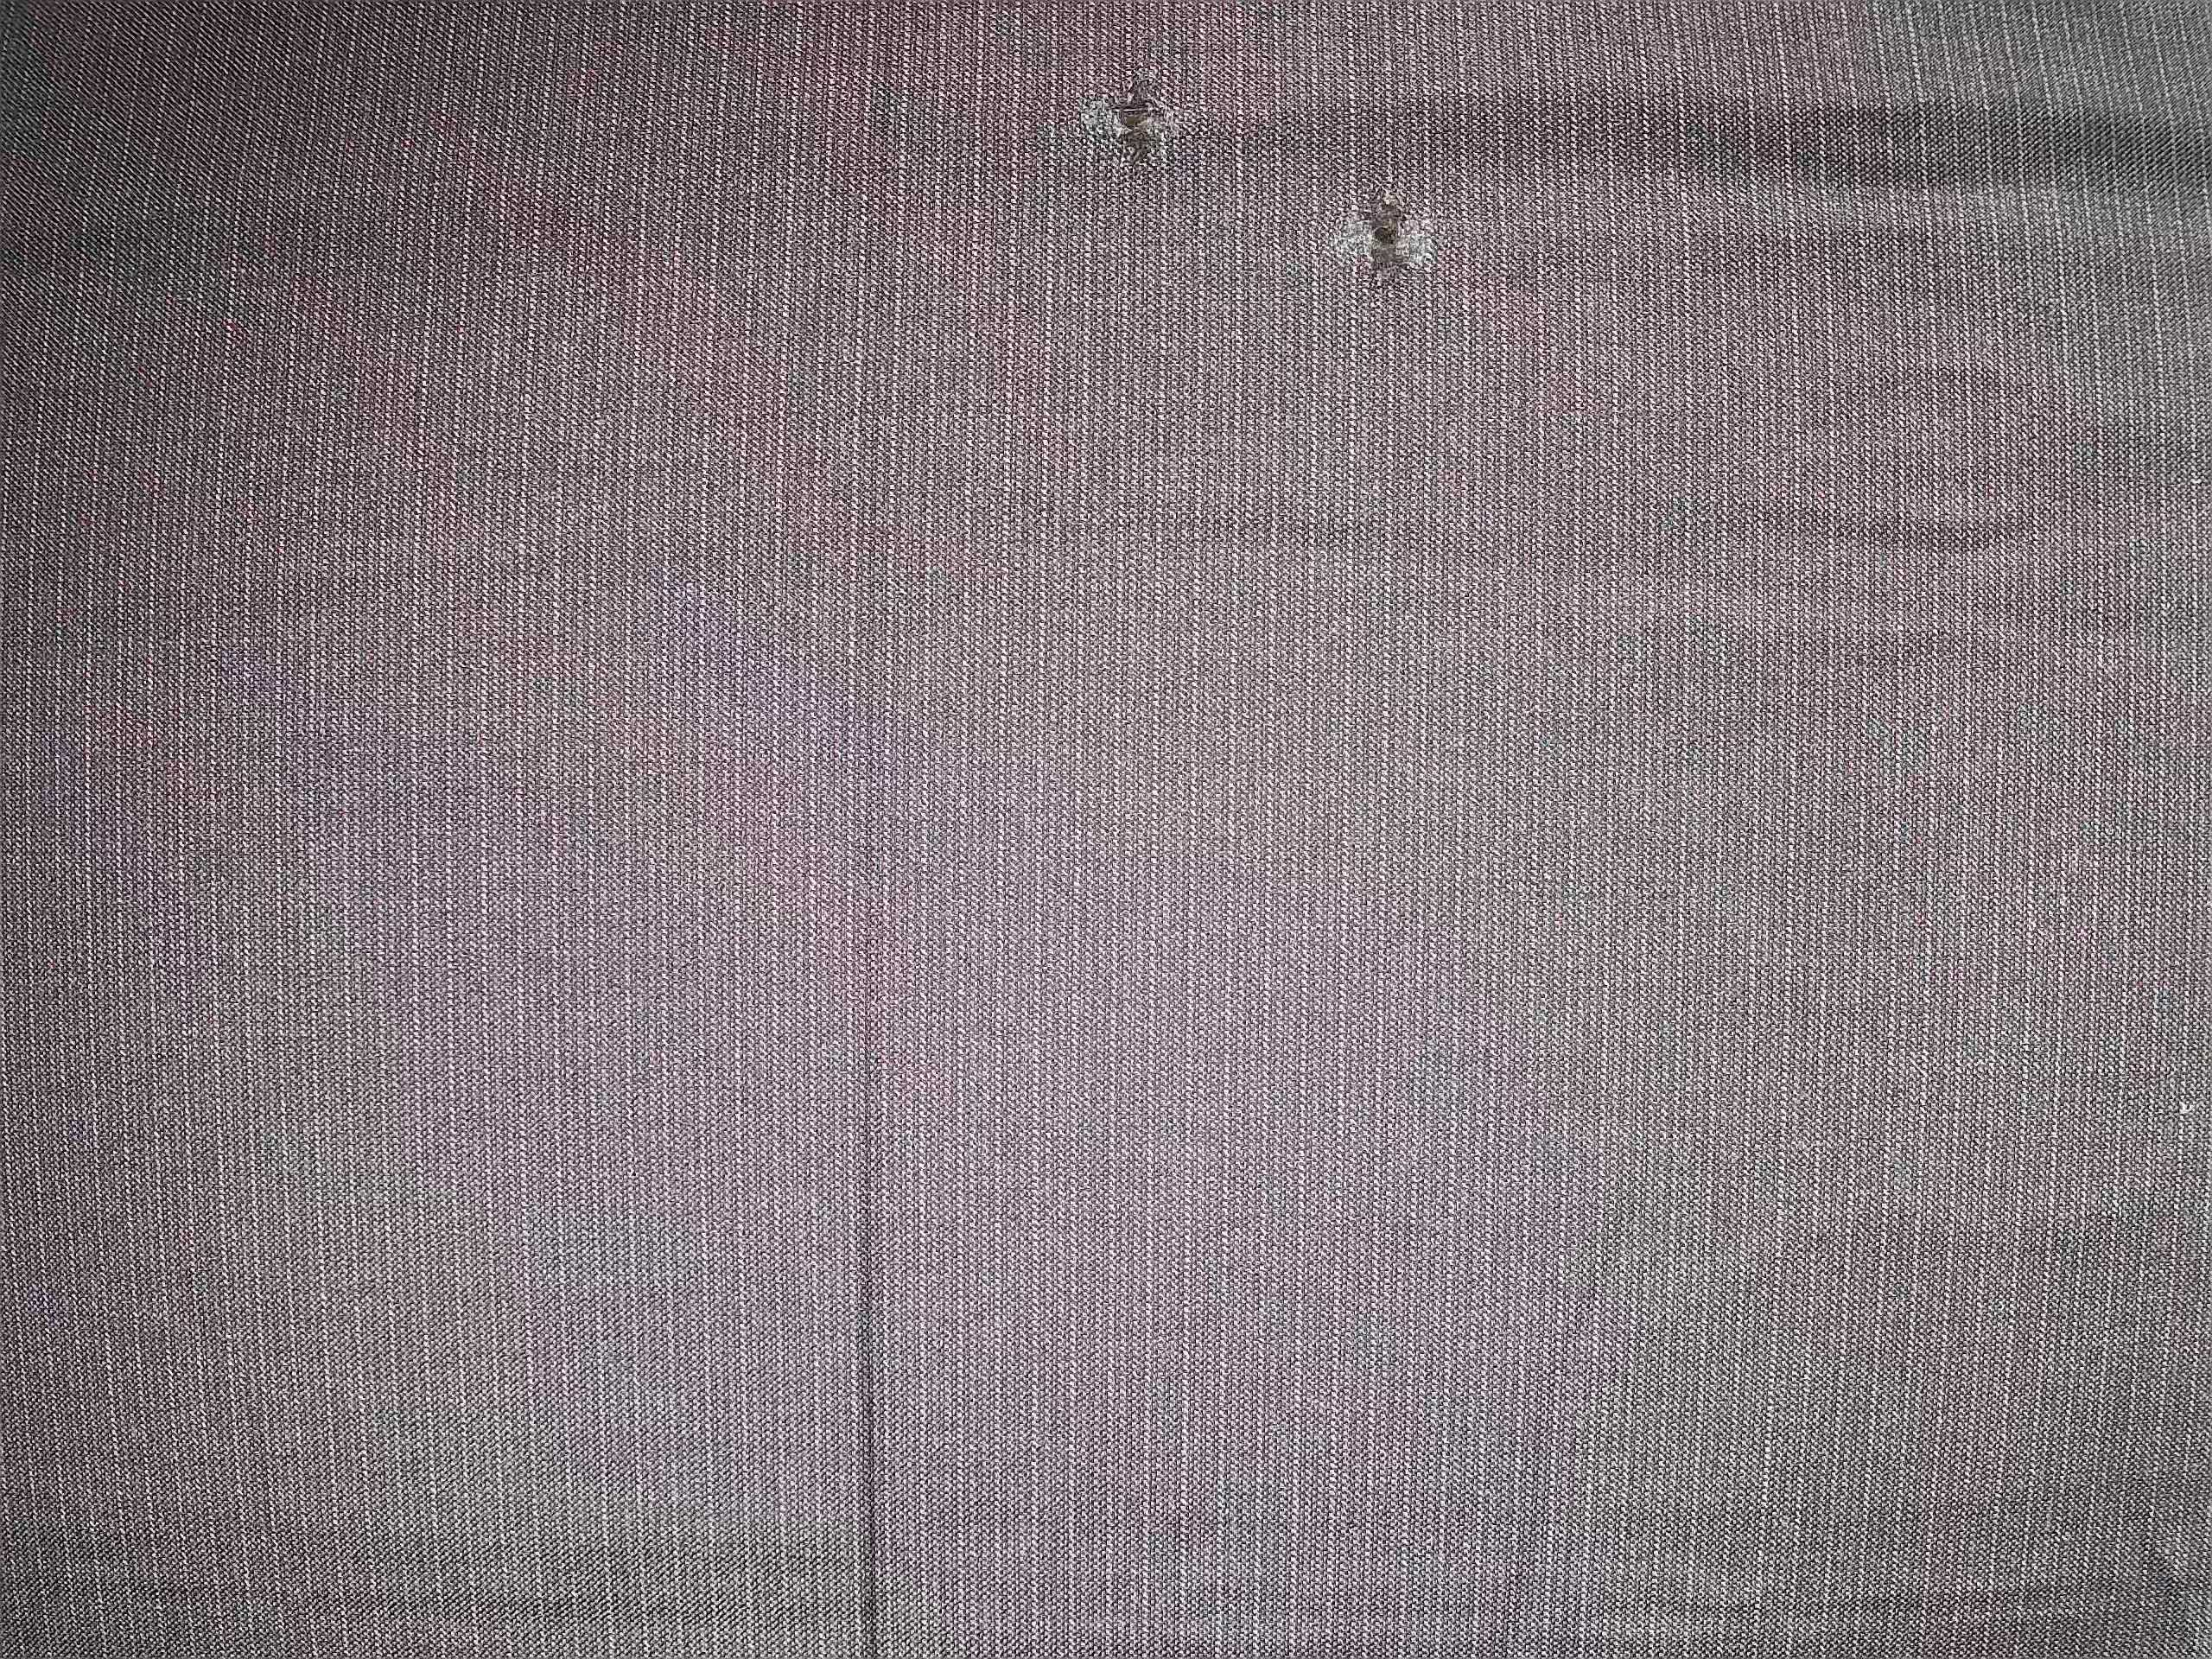rubbing-hole: (1322, 174, 1453, 310), (1071, 58, 1205, 183)
